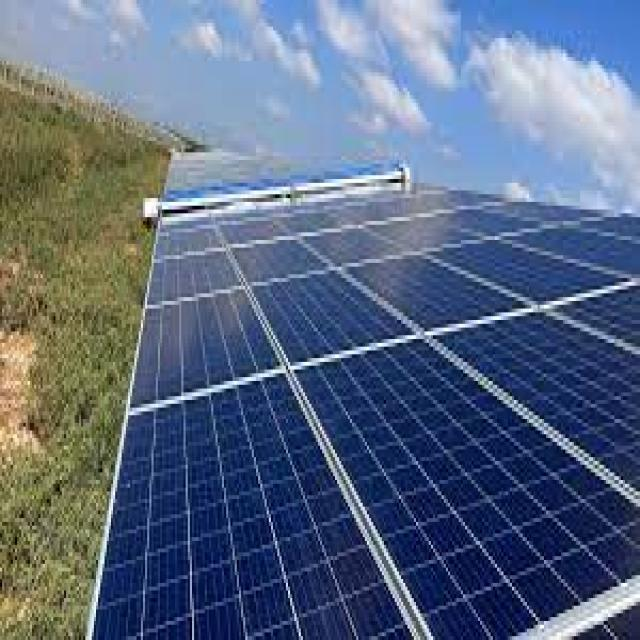clean-solar-panel: (90, 190, 640, 638)
